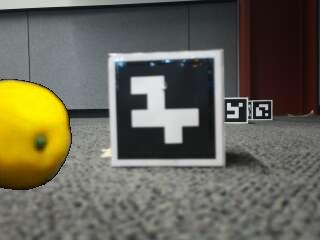lemon: (0, 81, 69, 188)
